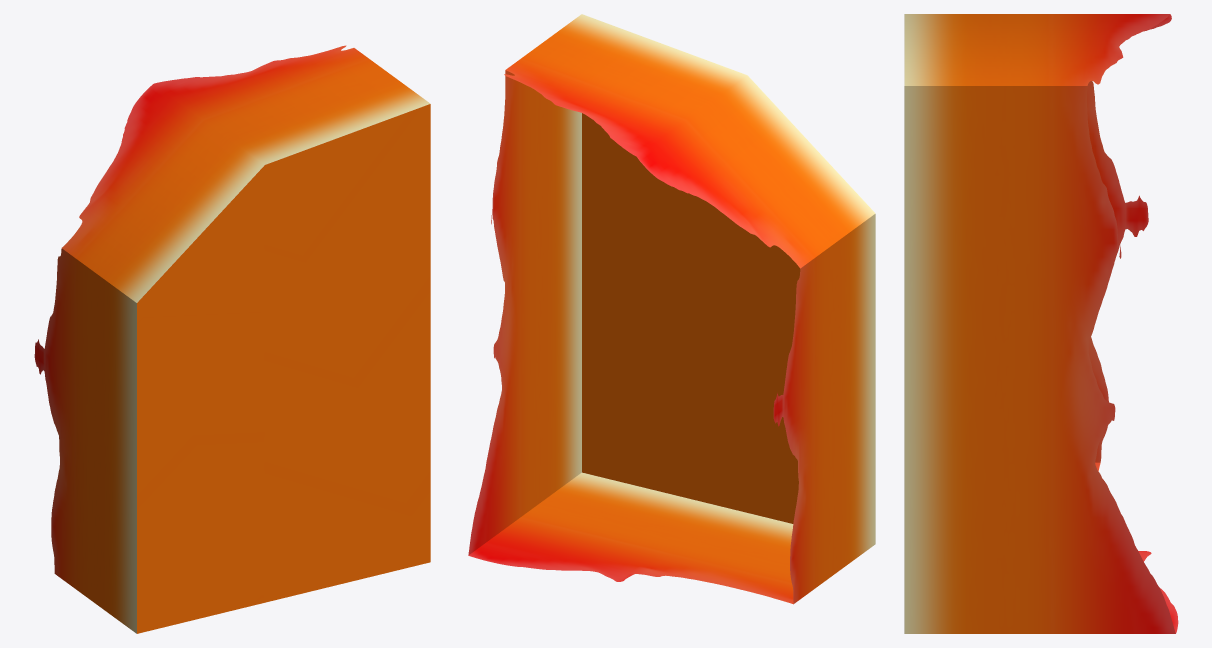
Rendered from yuanzhu5.FBX.
3 views of the same model, side by side, from view 1: azimuth 30°, elevation 25°; view 2: azimuth 150°, elevation 25°; view 3: azimuth 270°, elevation 25° (orthographic). The views are drawn at different scales.
Parts seen in each view (by area): view 1: Box001; view 2: Box001; view 3: Box001.
Part boxes in pixels (x1=…): Box001: x1=34, y1=45, x2=430, y2=633; Box001: x1=468, y1=14, x2=875, y2=604; Box001: x1=904, y1=14, x2=1178, y2=633.
Bounding box in the file's own units: 23.32 × 34.78 × 16.86.
Materials: 1 (1 with a texture image).
